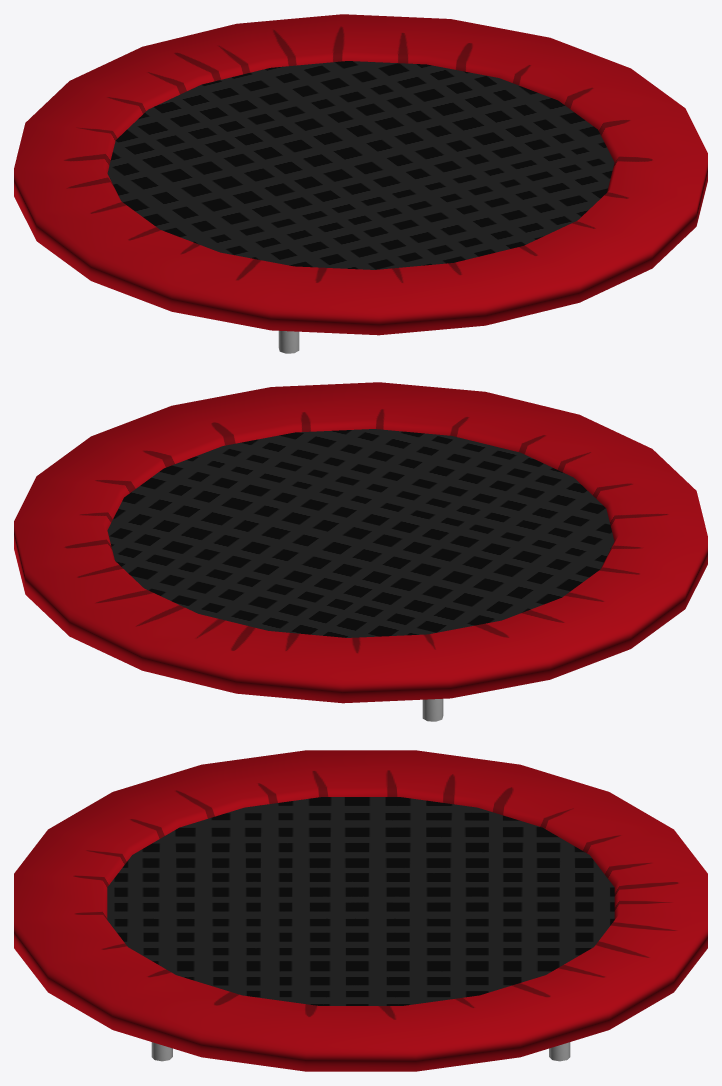
The model's file is Trampoline.fbx.
3 renders of one model, top to bottom at view 1: azimuth 30°, elevation 25°; view 2: azimuth 150°, elevation 25°; view 3: azimuth 270°, elevation 25°, orthographic.
Parts seen in each view (by area): view 1: Trampoline; view 2: Trampoline; view 3: Trampoline.
Part boxes in pixels (x1=…): Trampoline: x1=14, y1=14, x2=707, y2=353; Trampoline: x1=14, y1=382, x2=707, y2=721; Trampoline: x1=14, y1=750, x2=707, y2=1071.
Size of the model in its own units: 9.88 by 1.19 by 9.88.
